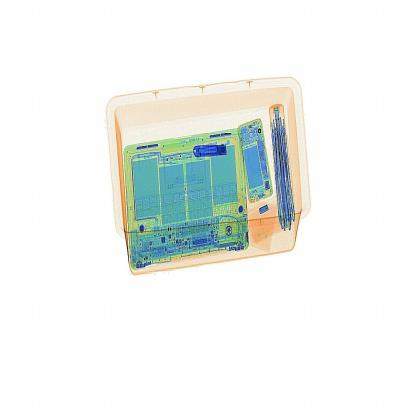knife: (191, 134, 232, 170)
